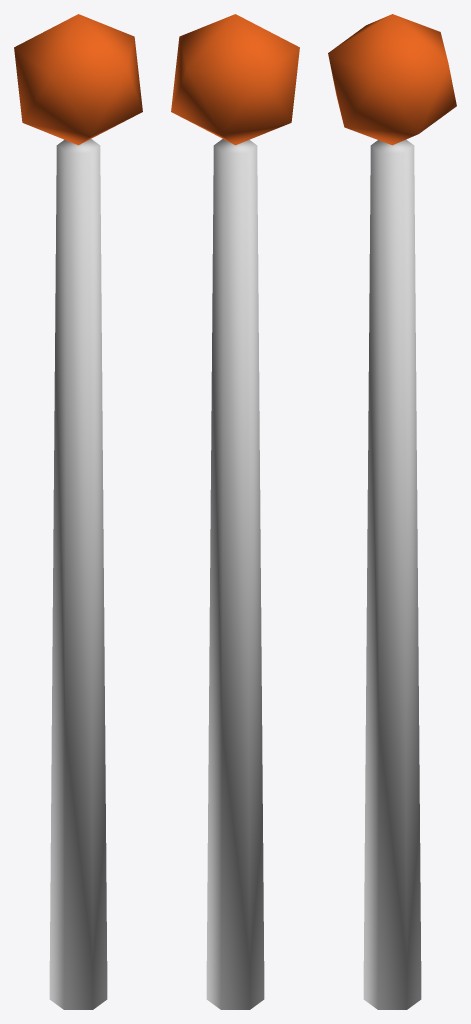
The model's file is flamelash.glb.
The picture shows the model from 3 angles, left to right: view 1: azimuth 30°, elevation 25°; view 2: azimuth 150°, elevation 25°; view 3: azimuth 330°, elevation 25°; orthographic projection.
Visible parts, largest first — view 1: flamelash_v0; view 2: flamelash_v0; view 3: flamelash_v0.
Boxes of the visible parts, bbox=[...] form: flamelash_v0: bbox=[14, 14, 142, 1009]; flamelash_v0: bbox=[171, 14, 299, 1009]; flamelash_v0: bbox=[328, 14, 456, 1009].
Size of the model in its own units: 0.0716 by 0.6 by 0.0681.
